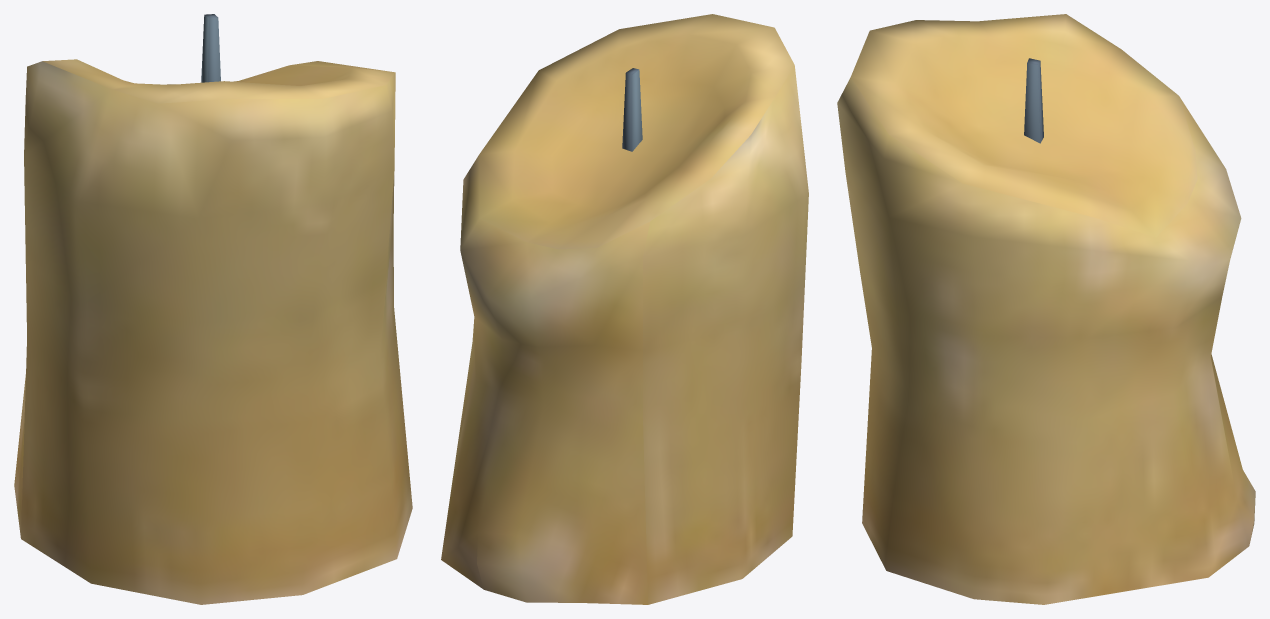
File: Candle_1.gltf
3 renders of one model, left to right at view 1: azimuth 30°, elevation 25°; view 2: azimuth 150°, elevation 25°; view 3: azimuth 270°, elevation 25°, orthographic. The views are drawn at different scales.
Visible parts, largest first — view 1: Candle_1; view 2: Candle_1; view 3: Candle_1.
Part boxes in pixels (x1,y1,x2,y2): Candle_1: [14, 14, 412, 604]; Candle_1: [441, 14, 808, 604]; Candle_1: [837, 14, 1255, 604].
Bounding box in the file's own units: 0.0939 × 0.132 × 0.1079.
1 material, 1 textured.
